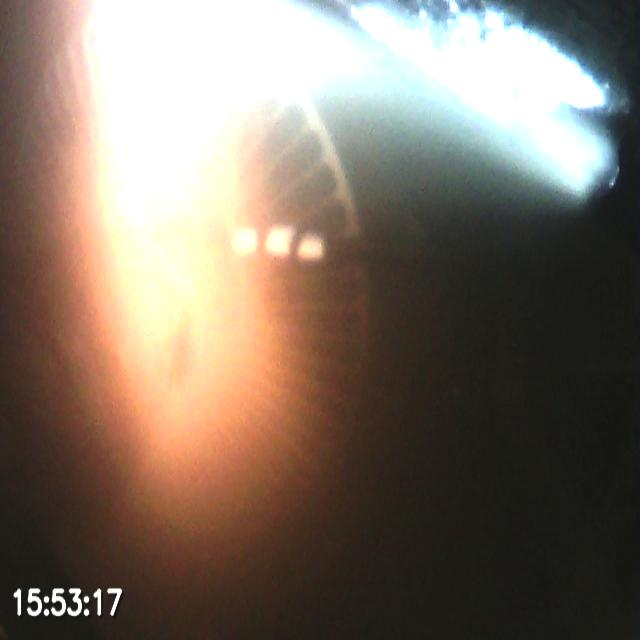white-dots: (230, 223, 329, 265)
